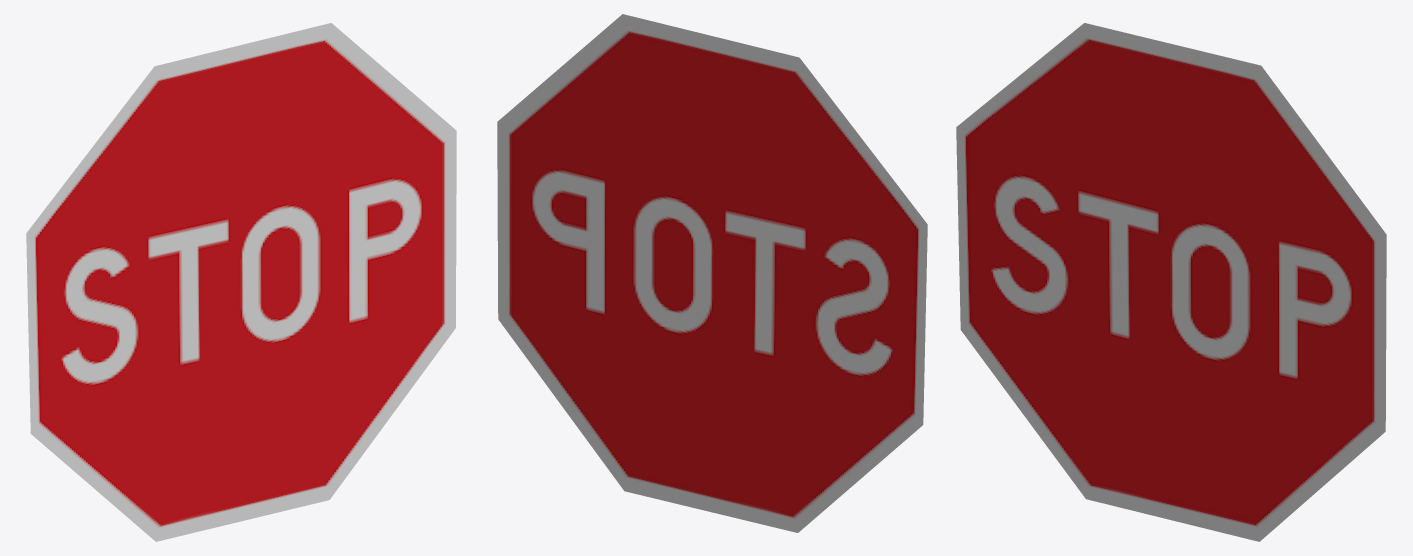
Rendered from SM_Road_Sign_013.fbx.
3 views of the same model, side by side, from view 1: azimuth 30°, elevation 25°; view 2: azimuth 150°, elevation 25°; view 3: azimuth 330°, elevation 25° (orthographic).
Parts seen in each view (by area): view 1: SM_Road_Sign_013; view 2: SM_Road_Sign_013; view 3: SM_Road_Sign_013.
Boxes of the visible parts, x1=… form: SM_Road_Sign_013: x1=26, y1=23, x2=456, y2=541; SM_Road_Sign_013: x1=497, y1=14, x2=927, y2=532; SM_Road_Sign_013: x1=956, y1=23, x2=1386, y2=541.
Bounding box in the file's own units: 38.94 × 41.22 × 1.89.
